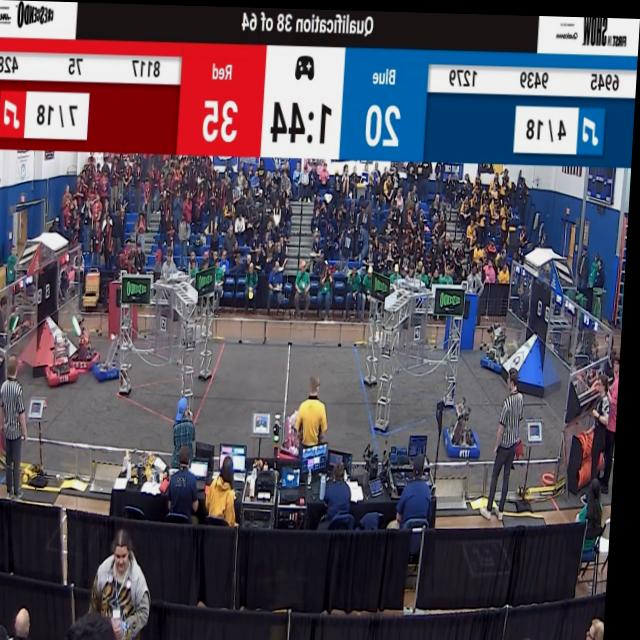Robot: (47, 324, 89, 392), (450, 390, 489, 458), (73, 306, 106, 371), (280, 402, 310, 463), (484, 316, 516, 373), (96, 330, 127, 385)
